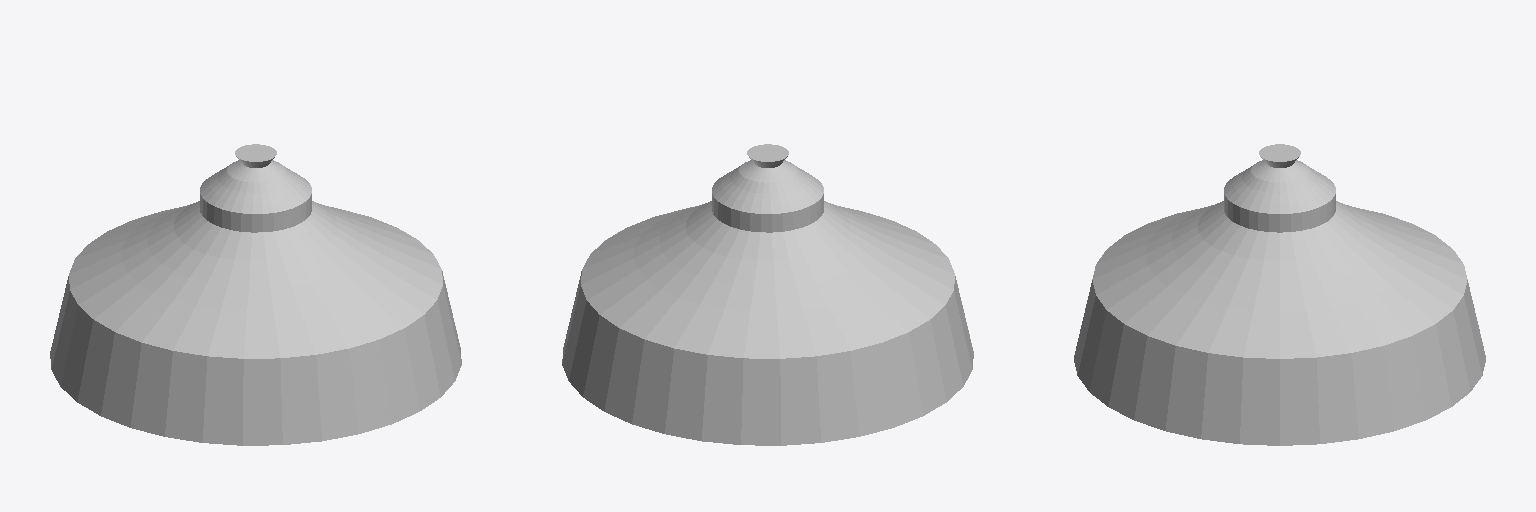
File: Model_Circus.obj
3 views of the same model, side by side, from view 1: azimuth 30°, elevation 25°; view 2: azimuth 150°, elevation 25°; view 3: azimuth 270°, elevation 25° (orthographic).
Parts seen in each view (by area): view 1: Cylinder; view 2: Cylinder; view 3: Cylinder.
Boxes of the visible parts, x1=… form: Cylinder: x1=50, y1=144, x2=461, y2=445; Cylinder: x1=562, y1=144, x2=973, y2=445; Cylinder: x1=1074, y1=144, x2=1485, y2=445.
Bounding box in the file's own units: 14.24 × 7.83 × 14.24.